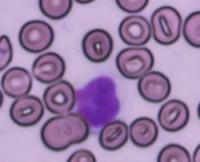L: (73, 67, 129, 134)
